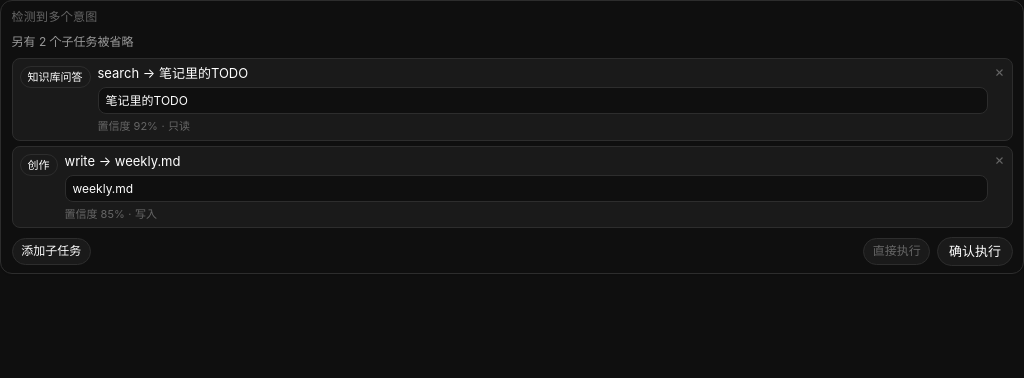
Test case: SplitConfirmCard — 渲染与编辑 › 添加子任务 → 新增一行（默认子任务，随后可编辑对象）
This screenshot has width=1024, height=378.
Click the button with test id "split-add" at (51, 251), box x1=12 y1=238 x2=91 y2=265
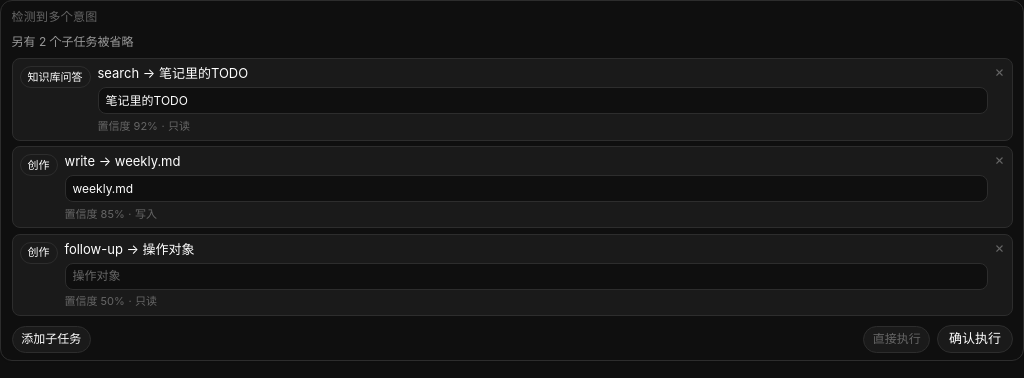
Result: the number of list items with test id "split-row" is 3 at x1=12 y1=58 x2=1012 y2=140; x1=12 y1=146 x2=1012 y2=228; x1=12 y1=234 x2=1012 y2=316
